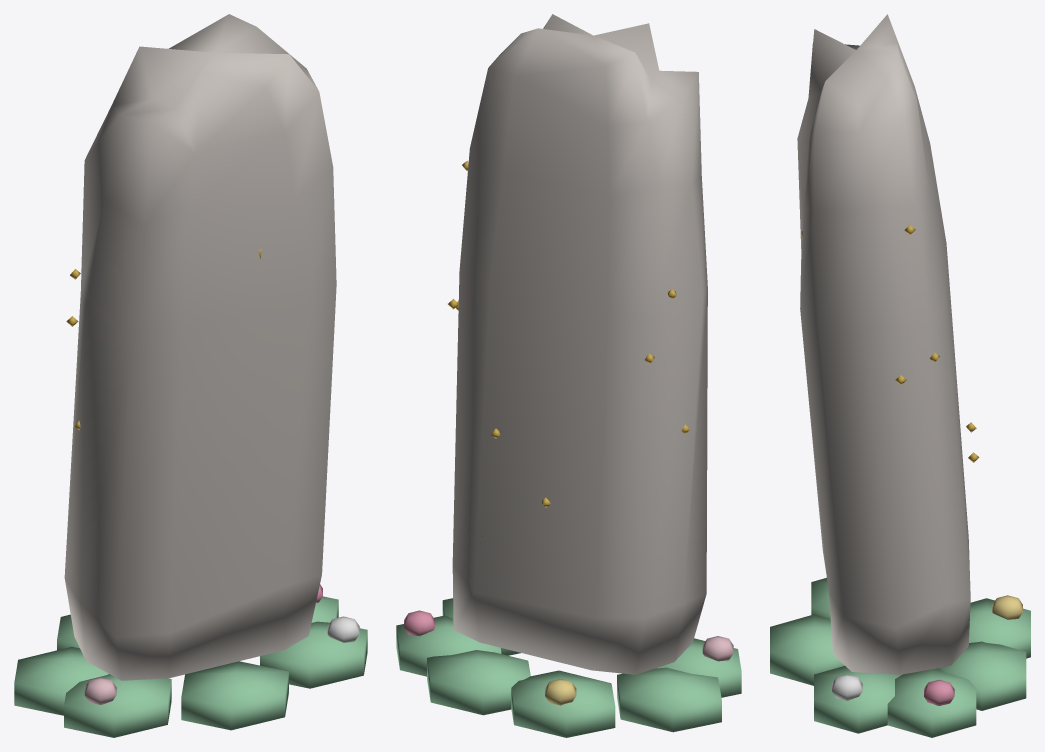
Rendered from rite_standing_stone_b.gltf.
3 views of the same model, side by side, from view 1: azimuth 30°, elevation 25°; view 2: azimuth 150°, elevation 25°; view 3: azimuth 270°, elevation 25° (orthographic). The views are drawn at different scales.
Visible parts, largest first — view 1: rite_standing_stone_b; view 2: rite_standing_stone_b; view 3: rite_standing_stone_b.
Boxes of the visible parts, x1,y1,x2,y2 form: rite_standing_stone_b: (14,14,367,737); rite_standing_stone_b: (396,14,741,737); rite_standing_stone_b: (770,14,1030,737).
Size of what is drawn, in the model's own units: 1.85 by 3.57 by 1.33.
